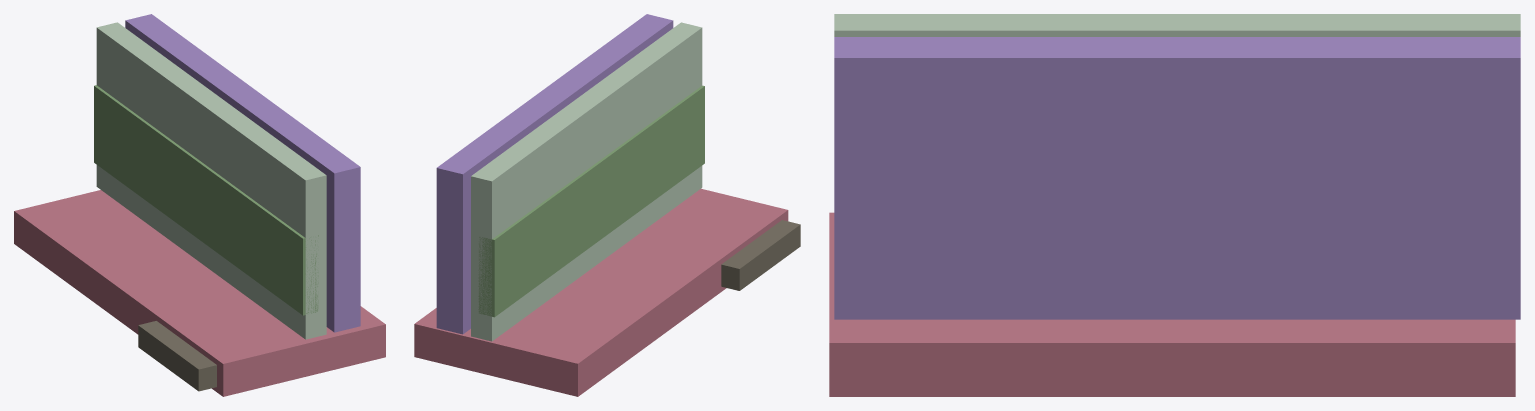
The model's file is 199501_pred.glb.
The picture shows the model from 3 angles, left to right: view 1: azimuth 30°, elevation 25°; view 2: azimuth 150°, elevation 25°; view 3: azimuth 270°, elevation 25°; orthographic projection. The views are drawn at different scales.
Visible parts, largest first — view 1: world; view 2: world; view 3: world.
Boxes of the visible parts, x1,y1,x2,y2 form: world: [14, 14, 385, 396]; world: [414, 14, 800, 396]; world: [829, 14, 1520, 396].
Bounding box in the file's own units: 3.45 × 3.55 × 6.95.
